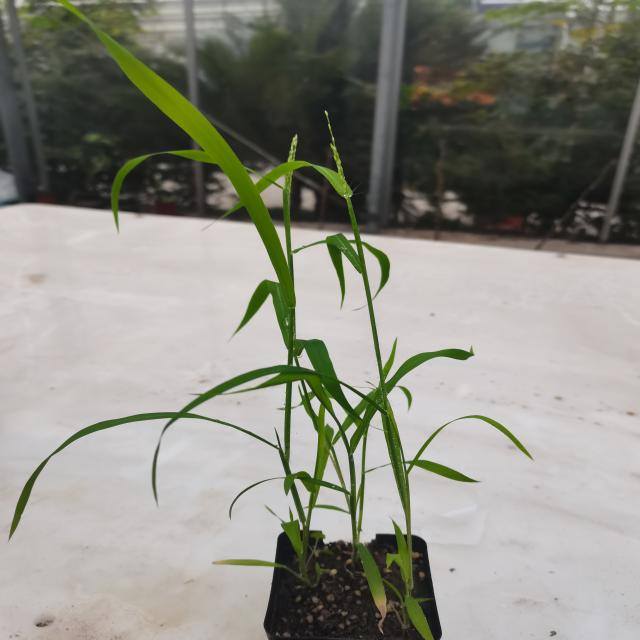crabgrass: (53, 53, 463, 530)
